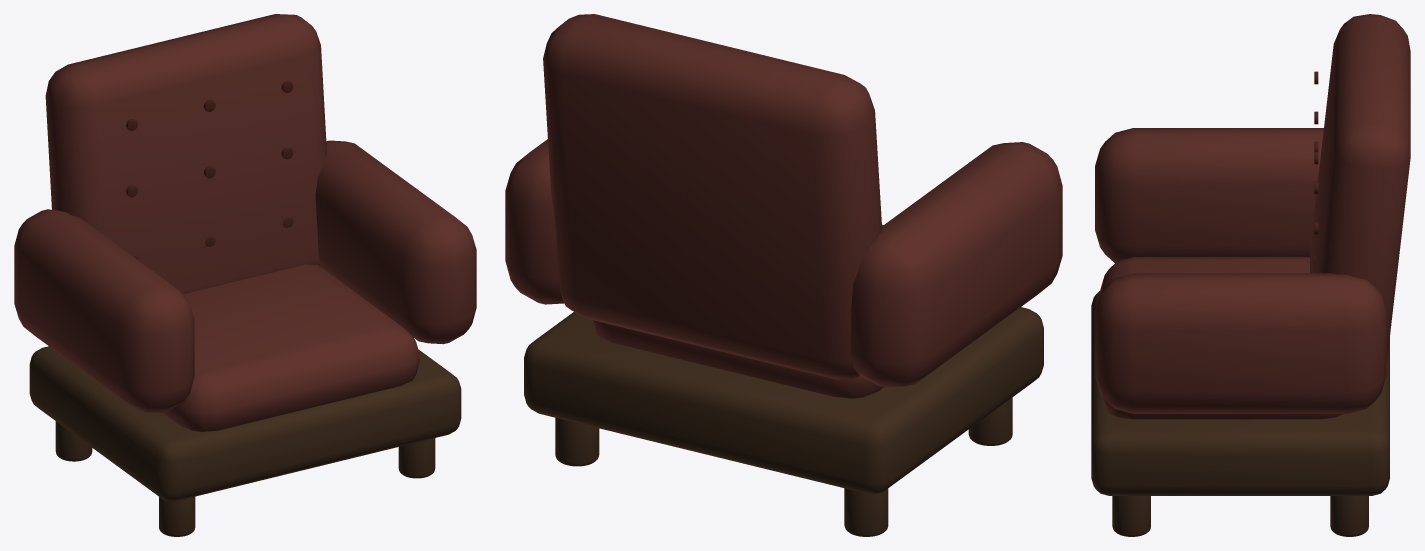
File: club_chair.glb
The picture shows the model from 3 angles, left to right: view 1: azimuth 30°, elevation 25°; view 2: azimuth 150°, elevation 25°; view 3: azimuth 270°, elevation 25°; orthographic projection. The views are drawn at different scales.
Parts seen in each view (by area): view 1: back cushion, chair base, seat cushion, rolled arm, rolled arm.001, turned foot, turned foot.002, turned foot.001; view 2: back cushion, chair base, rolled arm, rolled arm.001, seat cushion, turned foot.001, turned foot.003, turned foot; view 3: rolled arm.001, rolled arm, chair base, back cushion, seat cushion, turned foot.003, turned foot.002.
Part boxes in pixels (box(x1,y1,x2,y2)): back cushion: box(45, 14, 326, 294); chair base: box(29, 346, 461, 501); seat cushion: box(163, 264, 419, 431); rolled arm: box(14, 209, 194, 412); rolled arm.001: box(315, 140, 476, 344); turned foot: box(159, 496, 195, 536); turned foot.002: box(398, 438, 435, 478); turned foot.001: box(55, 421, 92, 461); back cushion: box(543, 14, 882, 379); chair base: box(524, 307, 1043, 493); rolled arm: box(850, 142, 1062, 387); rolled arm.001: box(505, 139, 563, 304); seat cushion: box(591, 224, 883, 398); turned foot.001: box(844, 488, 888, 536); turned foot.003: box(555, 417, 599, 466); turned foot: box(968, 397, 1012, 445); rolled arm.001: box(1095, 273, 1386, 413); rolled arm: box(1095, 128, 1323, 262); chair base: box(1091, 291, 1389, 495); back cushion: box(1310, 14, 1410, 362); seat cushion: box(1100, 257, 1342, 419); turned foot.003: box(1330, 496, 1368, 536); turned foot.002: box(1112, 496, 1150, 536).
Bounding box in the file's own units: 1.22 × 1.25 × 0.9084.
